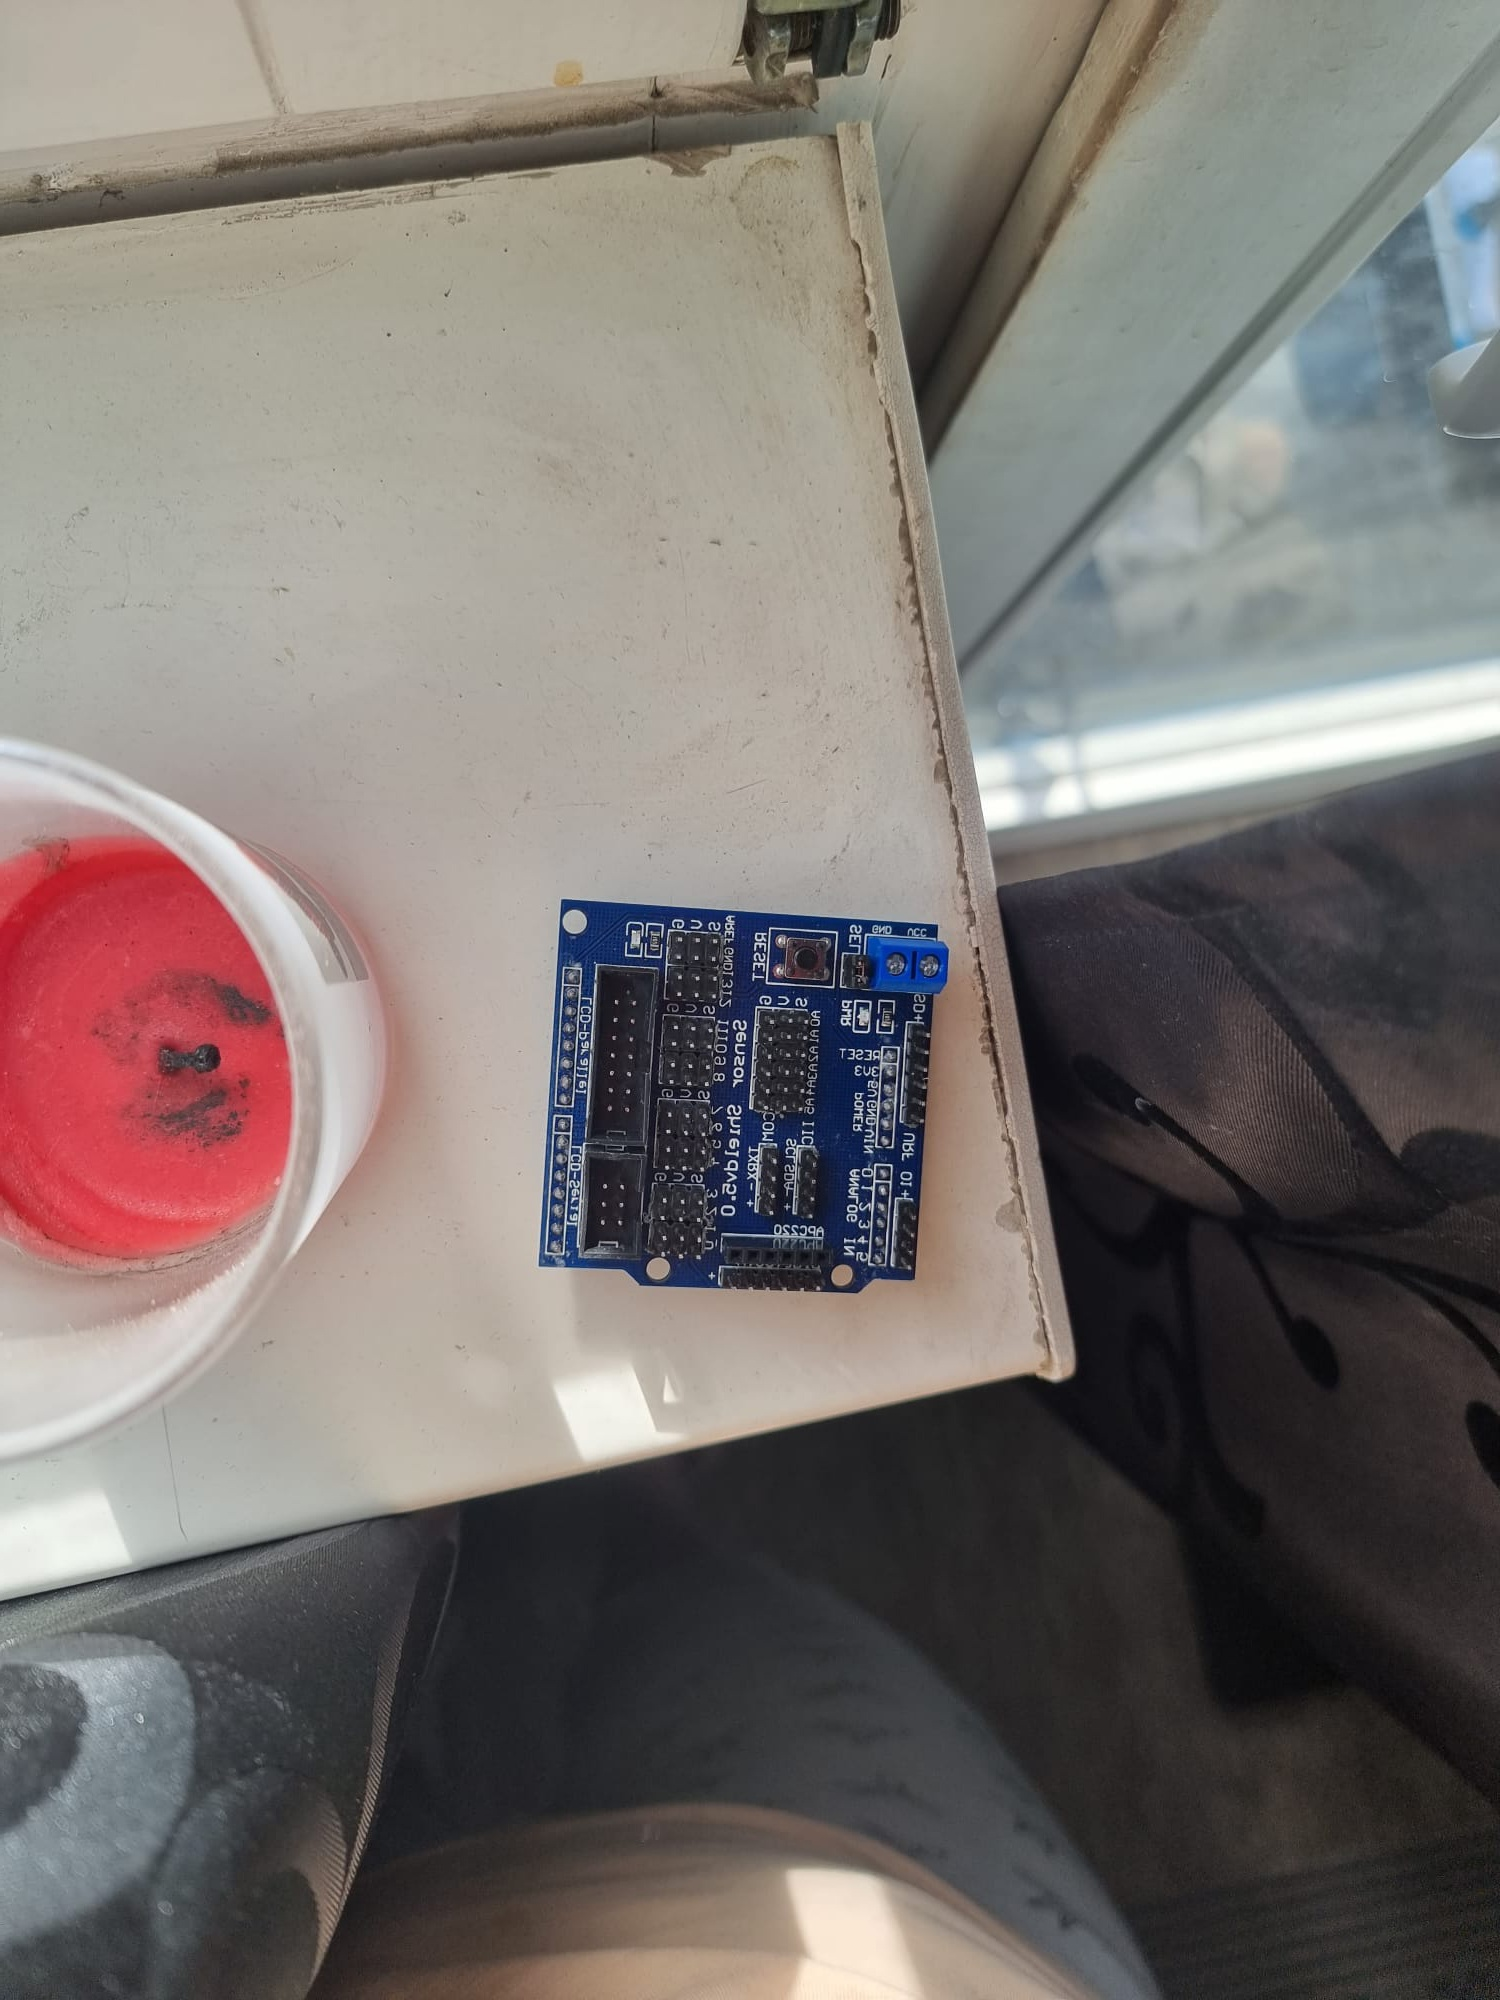5V EXPANSION: (522, 894, 939, 1306)
